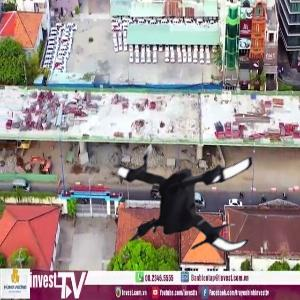drone: (98, 116, 265, 283)
